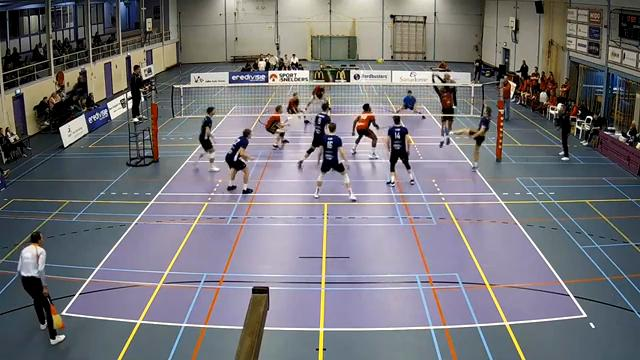Block: (431, 69, 458, 152)
Player: (314, 123, 355, 201), (454, 106, 491, 171), (298, 102, 330, 168), (386, 115, 414, 186), (225, 129, 252, 193), (352, 103, 379, 158), (196, 107, 219, 171), (265, 105, 288, 148), (395, 90, 424, 118), (287, 93, 300, 119), (305, 118, 308, 123)
ball: (377, 57, 385, 63)
